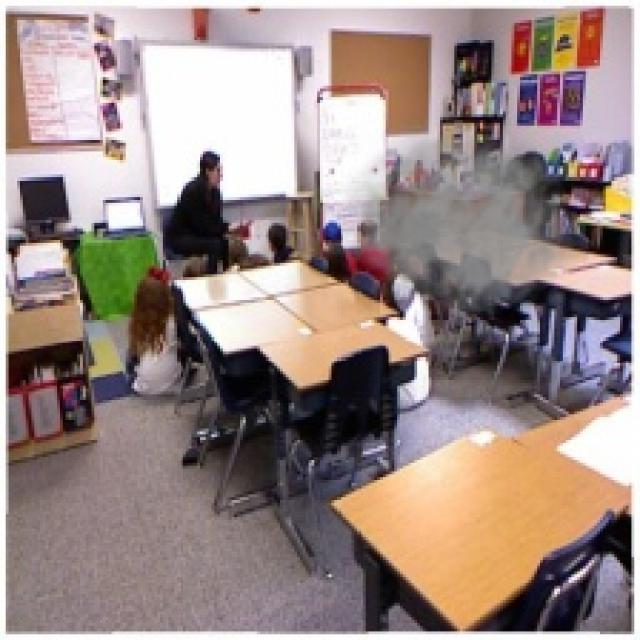smoke: (331, 109, 580, 320)
